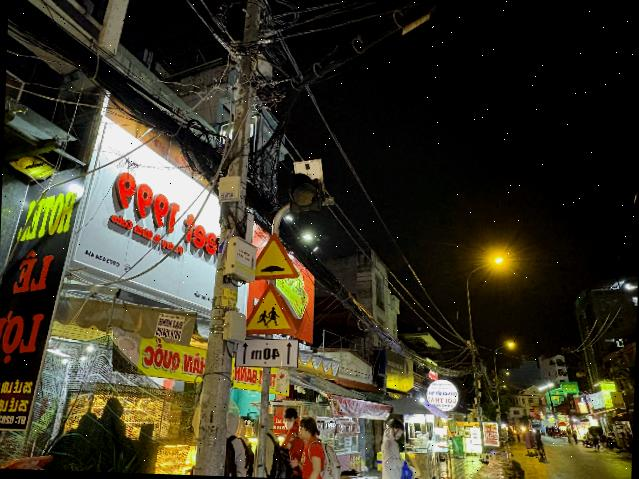duong-co-go-giam-toc: (254, 232, 301, 282)
tre-em-qua-duong: (244, 283, 297, 336)
